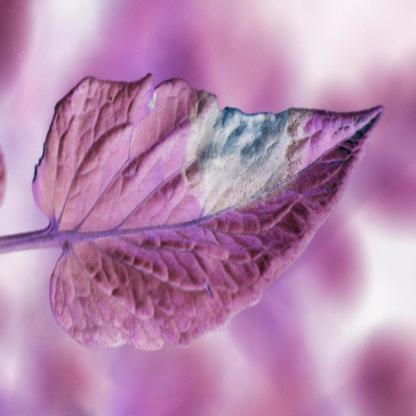Tomato leaf mosaic virus: (25, 55, 394, 359)
